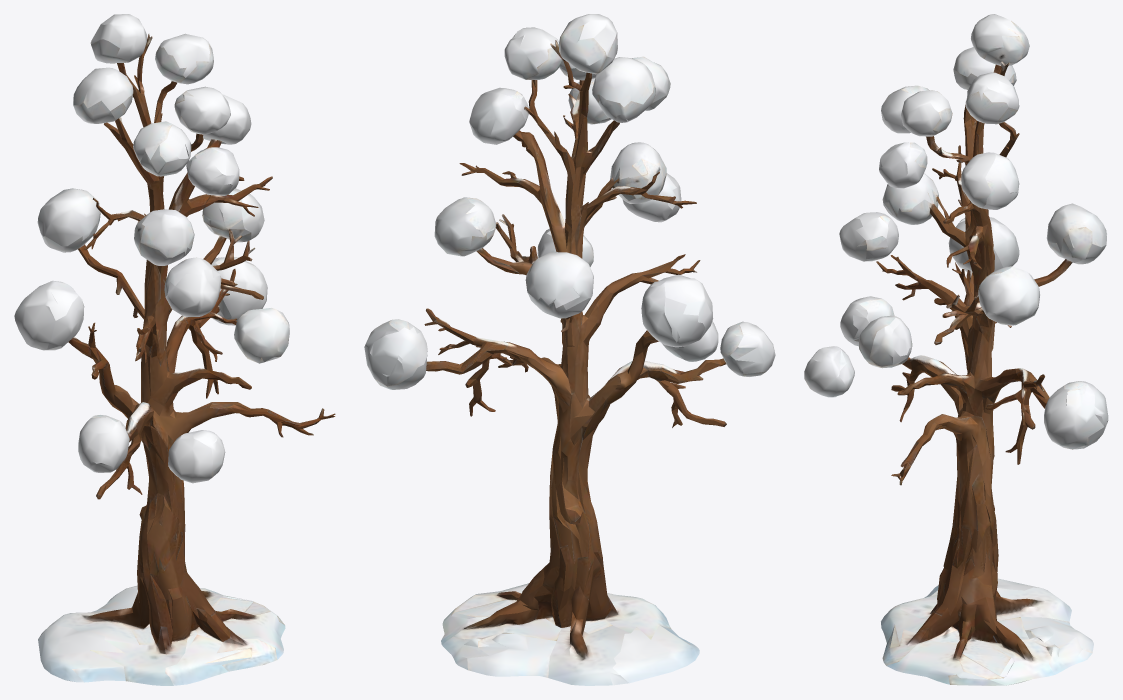
File: snowball_tree.glb
The picture shows the model from 3 angles, left to right: view 1: azimuth 30°, elevation 25°; view 2: azimuth 150°, elevation 25°; view 3: azimuth 270°, elevation 25°; orthographic projection. The views are drawn at different scales.
Bounding box in the file's own units: 0.9217 × 1.9 × 0.8703.
1 material, 1 textured.
